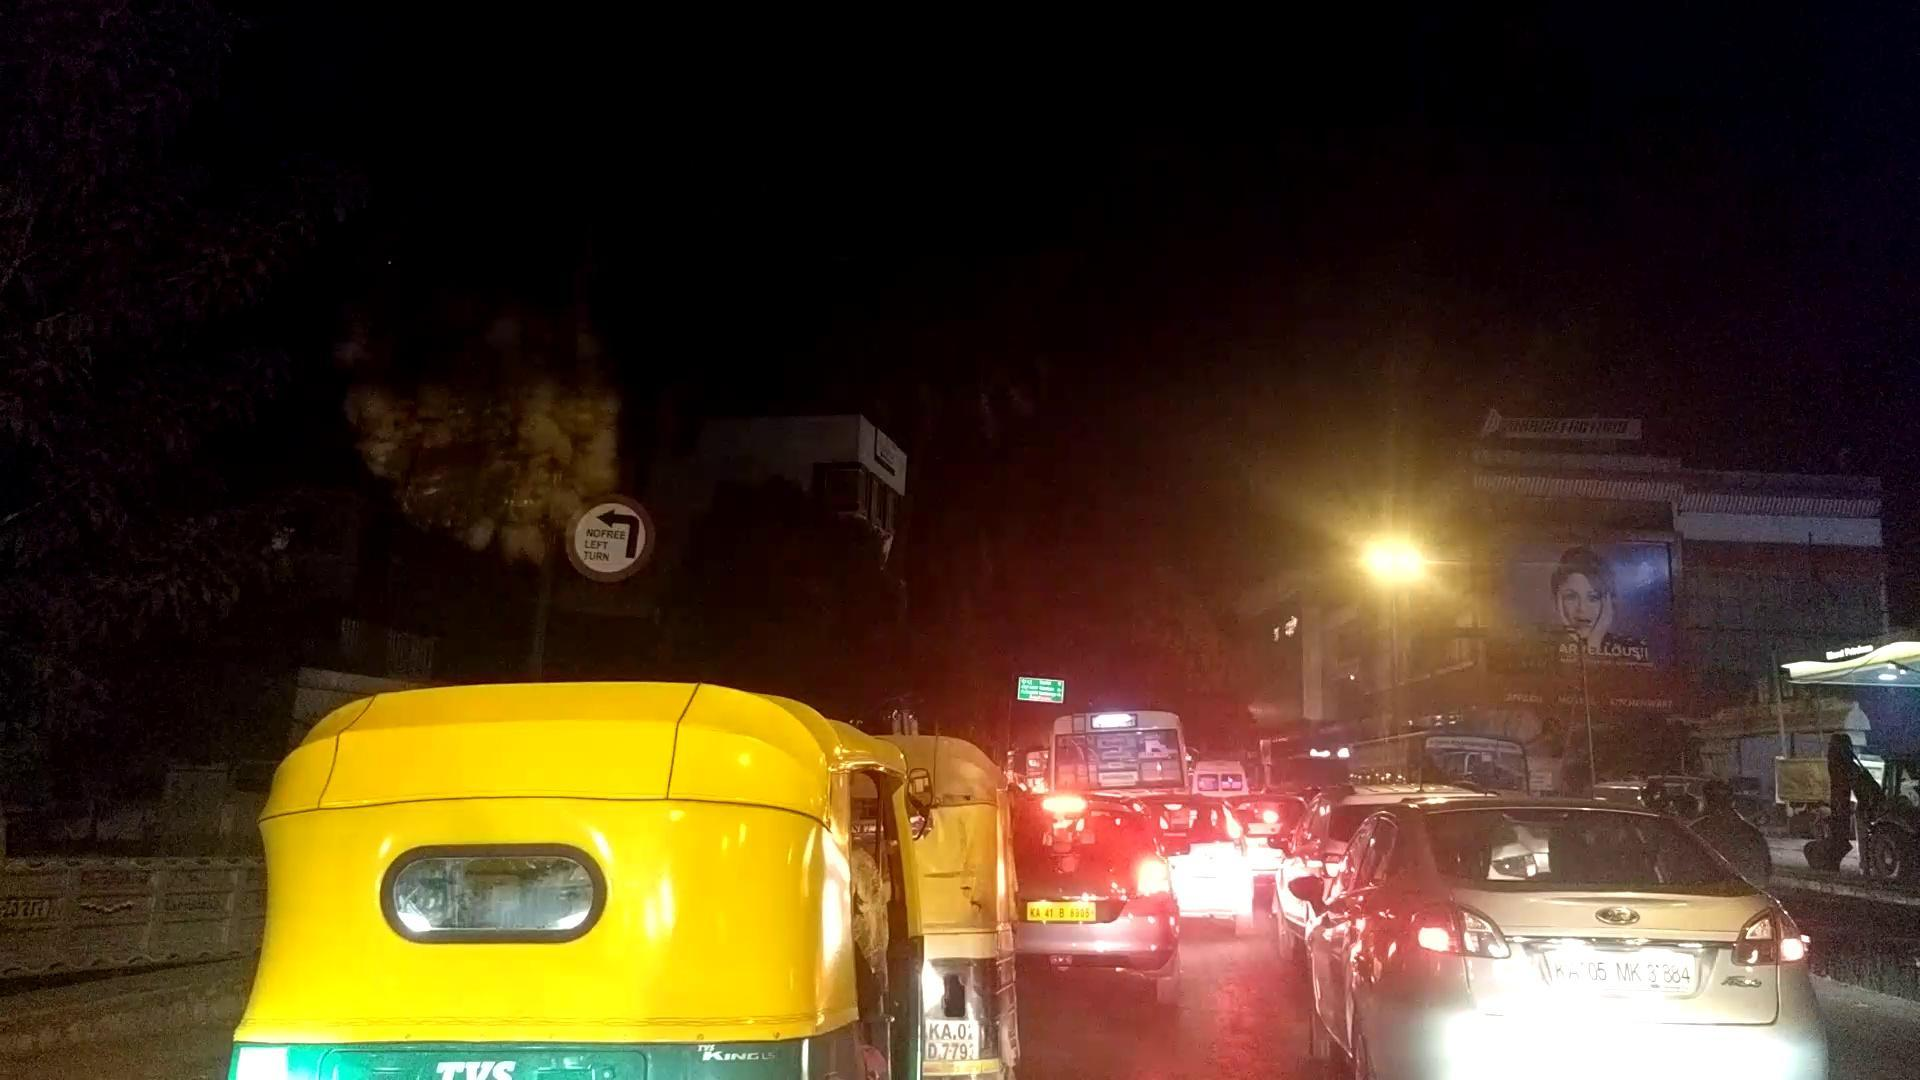off: (1180, 342, 1903, 1080)
